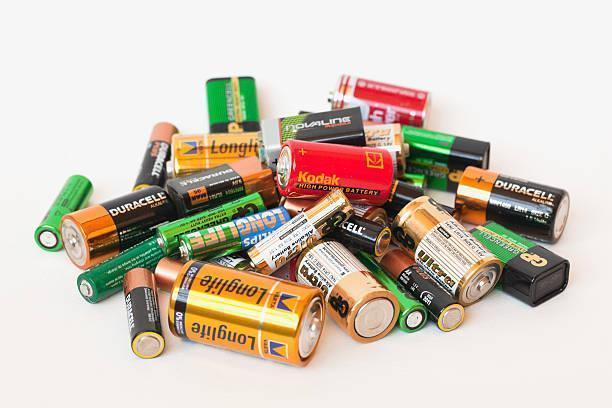AA: (246, 184, 359, 276), (177, 203, 293, 263), (32, 174, 96, 253), (121, 266, 167, 362)
